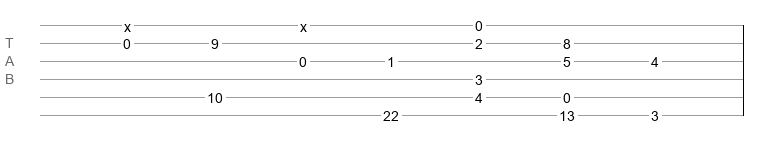0: (123, 36, 131, 46), (299, 54, 307, 64), (475, 18, 483, 28), (563, 90, 571, 100)
1: (387, 54, 395, 64)
10: (207, 90, 223, 100)
13: (559, 108, 575, 118)
2: (475, 36, 483, 46)
22: (383, 108, 399, 118)
3: (475, 72, 483, 82), (651, 108, 659, 118)
4: (475, 90, 483, 100), (651, 54, 659, 64)
5: (563, 54, 571, 64)
8: (563, 36, 571, 46)
9: (211, 36, 219, 46)
x: (124, 19, 131, 27), (300, 19, 307, 27)
